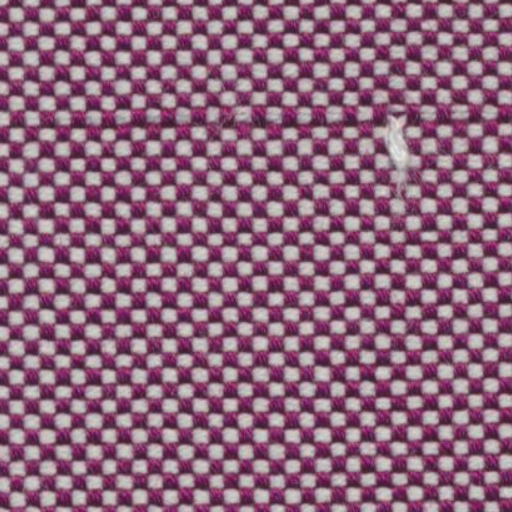DuanSha: (368, 104, 421, 184)
